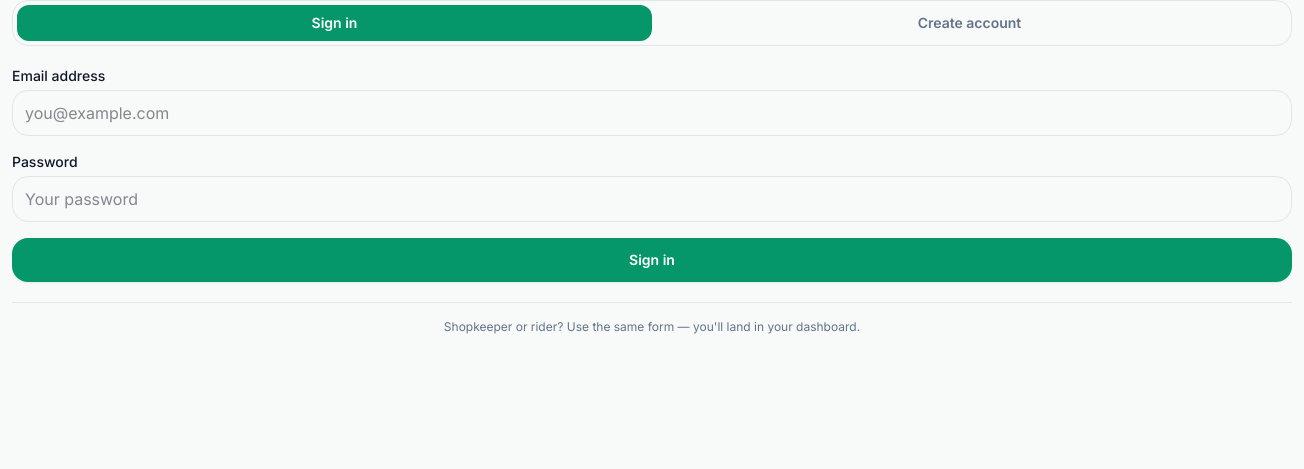
Test: LoginFlow — sign up › shows the check-your-email screen when confirmation is required
Click the tab "Create account".
click(970, 23)  # box [652, 5, 1287, 41]
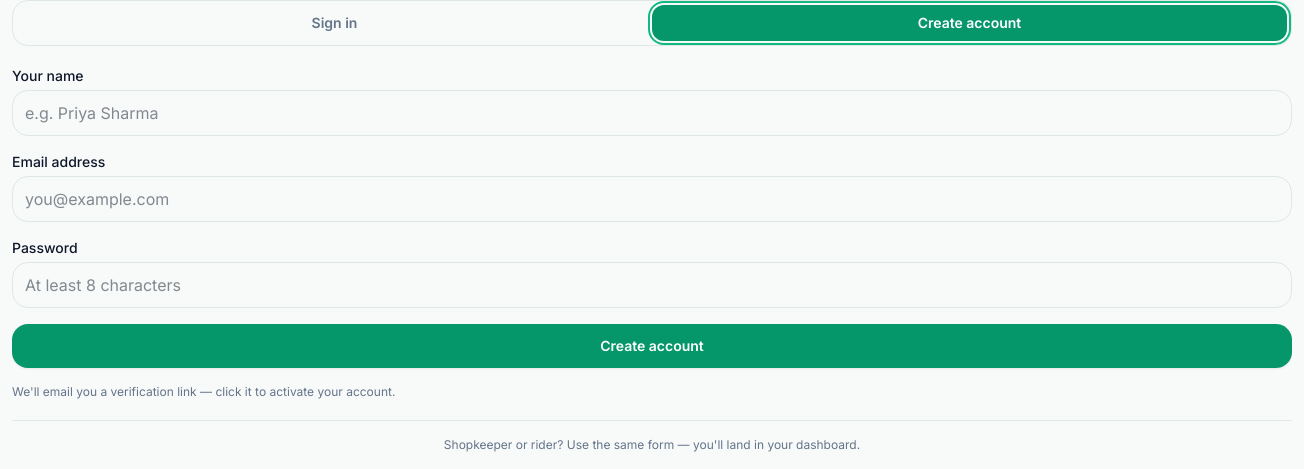
Type "Priya Sharma" into the field labelled "Your name".
click(652, 113); type("Priya Sharma")  # box [12, 90, 1292, 136]
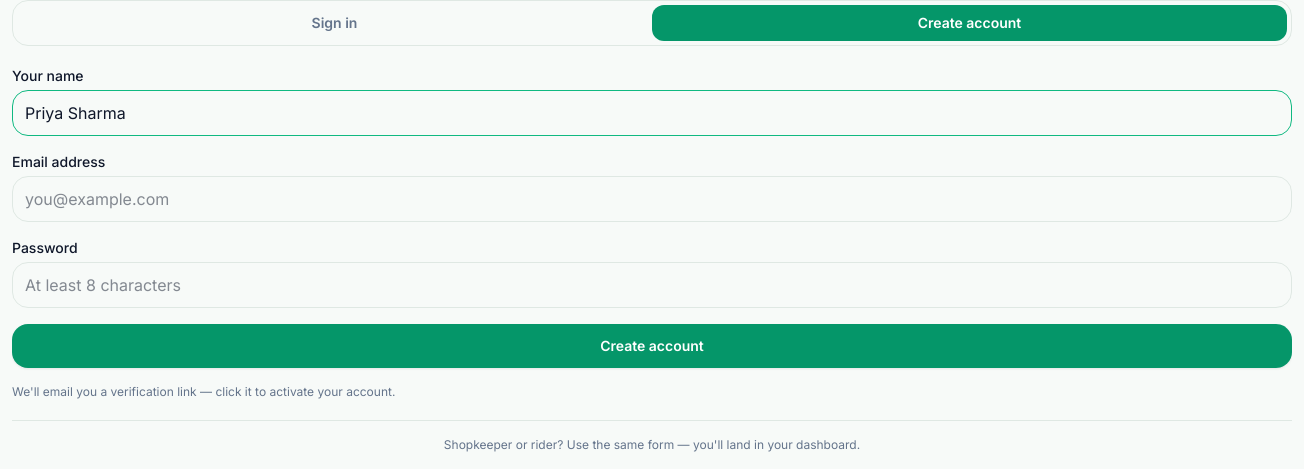
Type "new@example.com" into the field labelled "Email address".
click(652, 199); type("new@example.com")  # box [12, 176, 1292, 222]
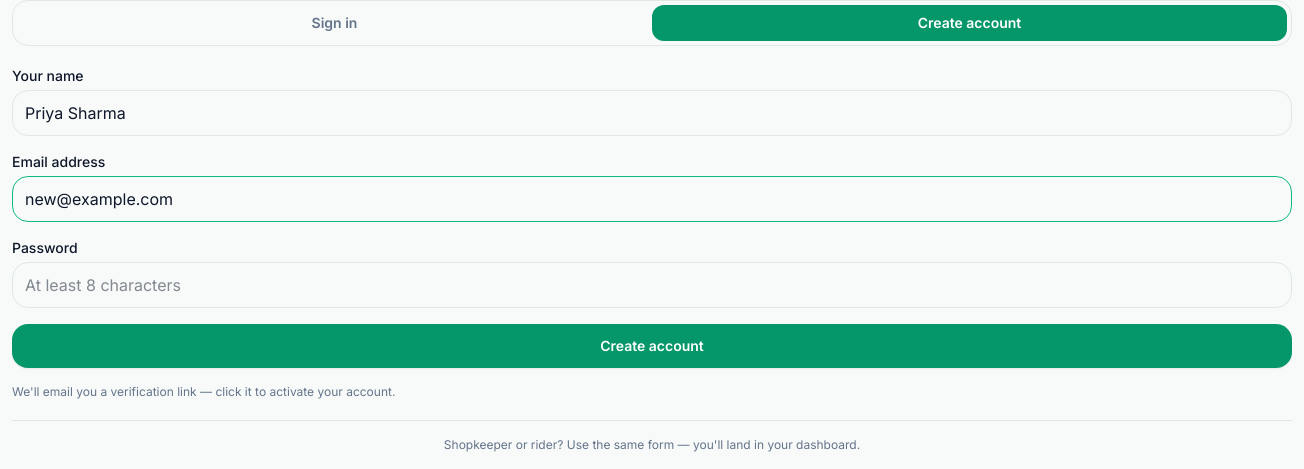
Type "password123" into the password field labelled "Password".
click(652, 285); type("password123")  # box [12, 262, 1292, 308]
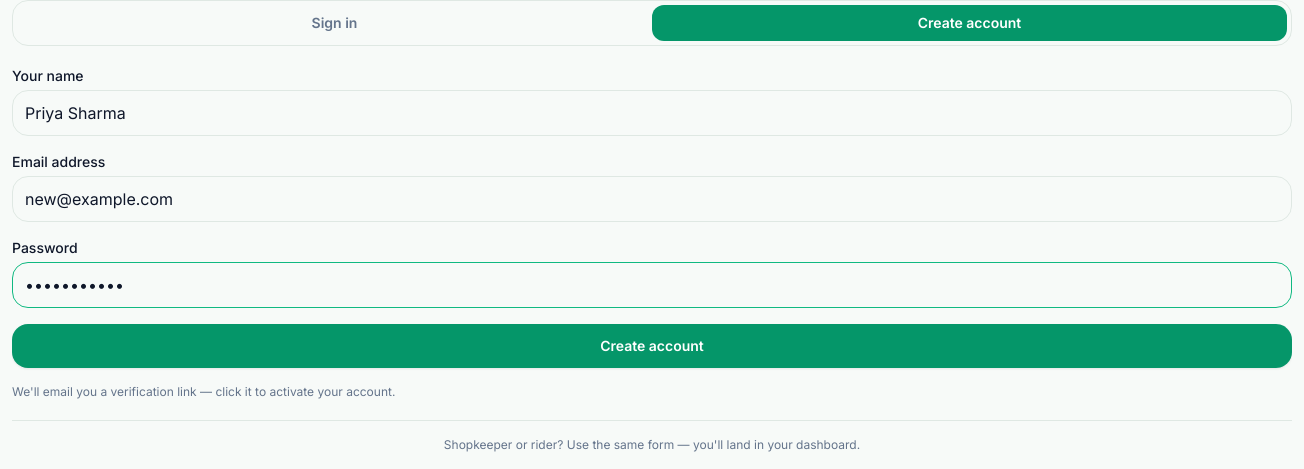
Click the button "Create account".
click(652, 346)  # box [12, 324, 1292, 368]
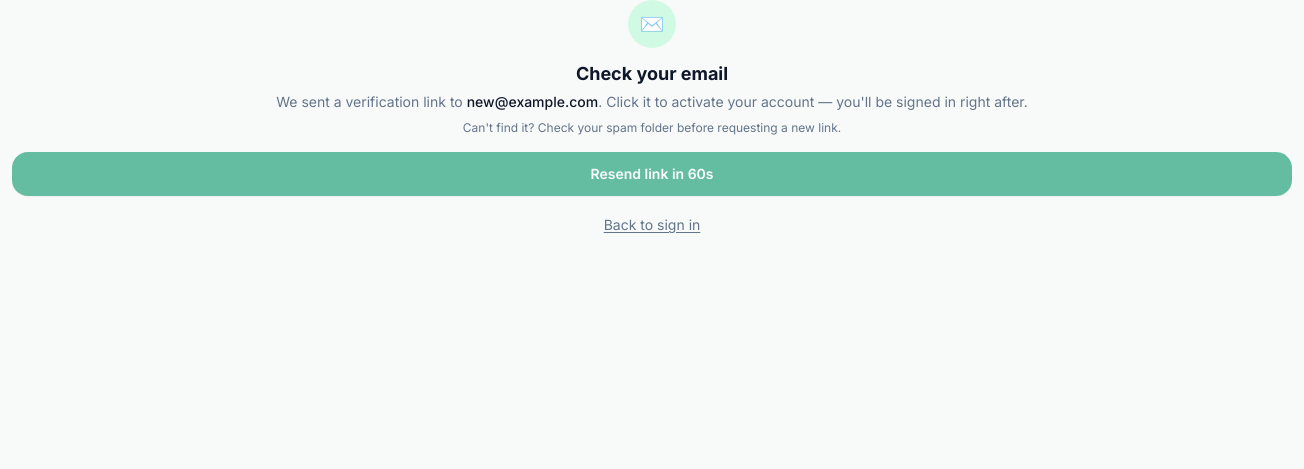
Check: the heading "Check your email" is shown, box [576, 63, 728, 84]
Check: the text "new@example.com" is shown, box [467, 93, 598, 110]
